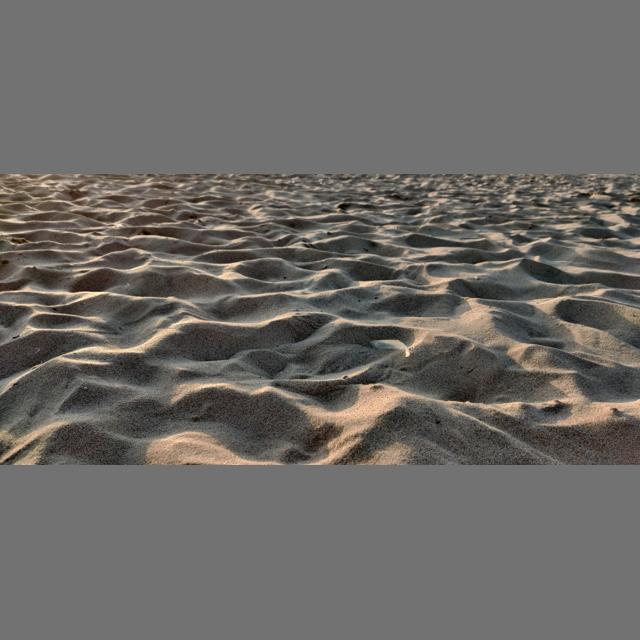litter: (370, 340, 410, 358)
